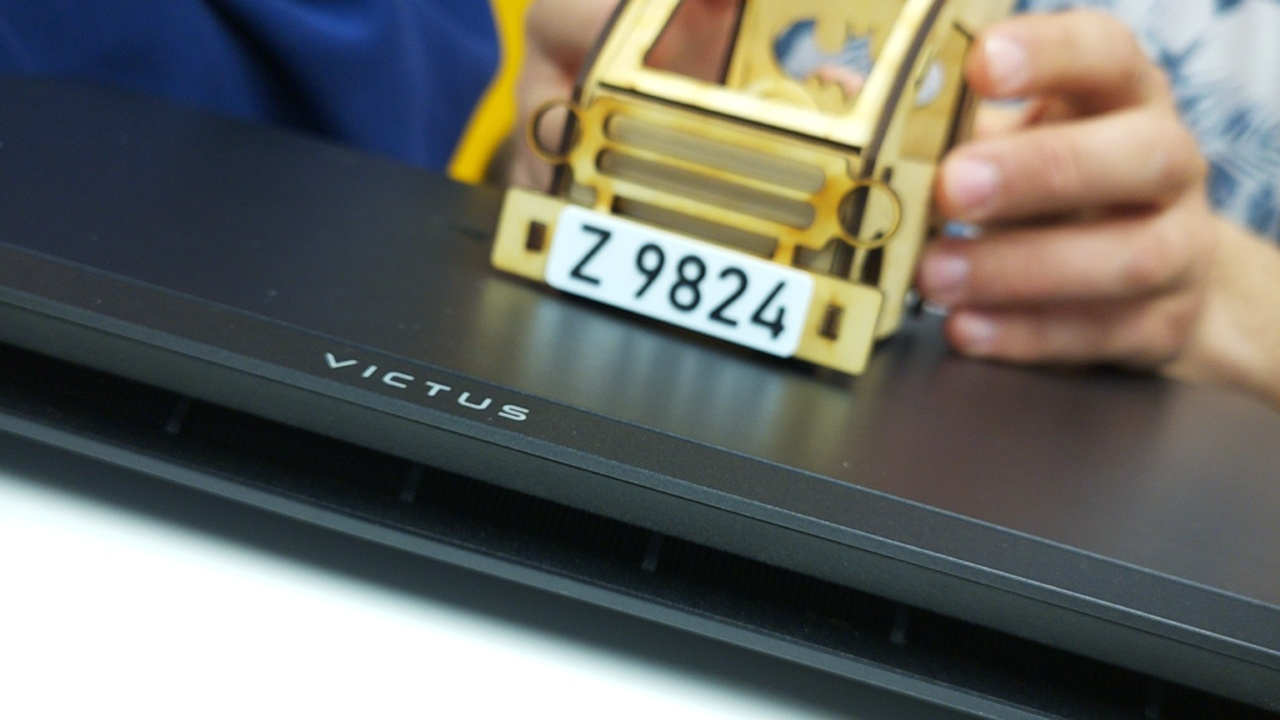license_plate: (539, 200, 817, 361)
